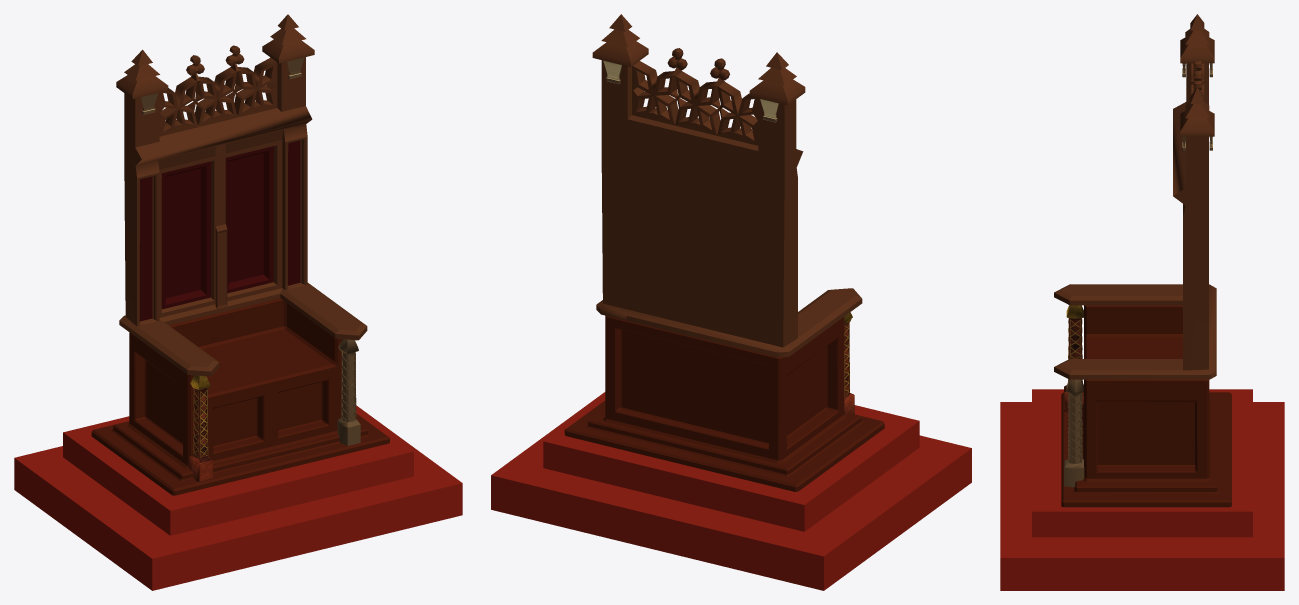
File: kings-throne.lod0.glb
The picture shows the model from 3 angles, left to right: view 1: azimuth 30°, elevation 25°; view 2: azimuth 150°, elevation 25°; view 3: azimuth 270°, elevation 25°; orthographic projection. The views are drawn at different scales.
Parts seen in each view (by area): view 1: chair_base_UV1304_0, protude_top_b_l_UV1303_0; view 2: chair_base_UV1304_0, protude_top_b_l_UV1303_0; view 3: chair_base_UV1304_0, protude_top_b_l_UV1303_0.
Boxes of the visible parts, box(x1,y1,x2,y2) form: chair_base_UV1304_0: box(14, 14, 462, 590); protude_top_b_l_UV1303_0: box(142, 73, 301, 482); chair_base_UV1304_0: box(491, 14, 971, 590); protude_top_b_l_UV1303_0: box(603, 60, 854, 415); chair_base_UV1304_0: box(1000, 14, 1284, 590); protude_top_b_l_UV1303_0: box(1064, 63, 1212, 412).
Bounding box in the file's own units: 1.87 × 2.6 × 1.44.
2 materials, 1 textured.
